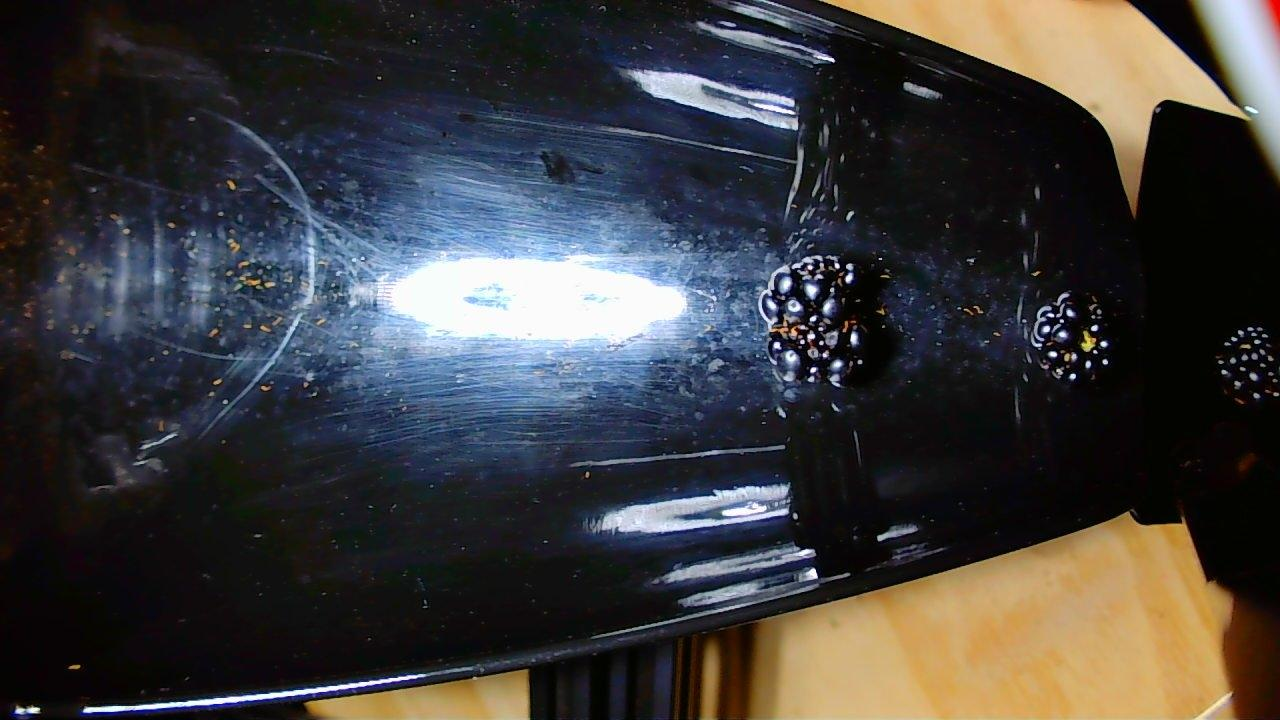berry: (763, 252, 867, 393), (1014, 288, 1109, 391), (1220, 326, 1279, 413)
